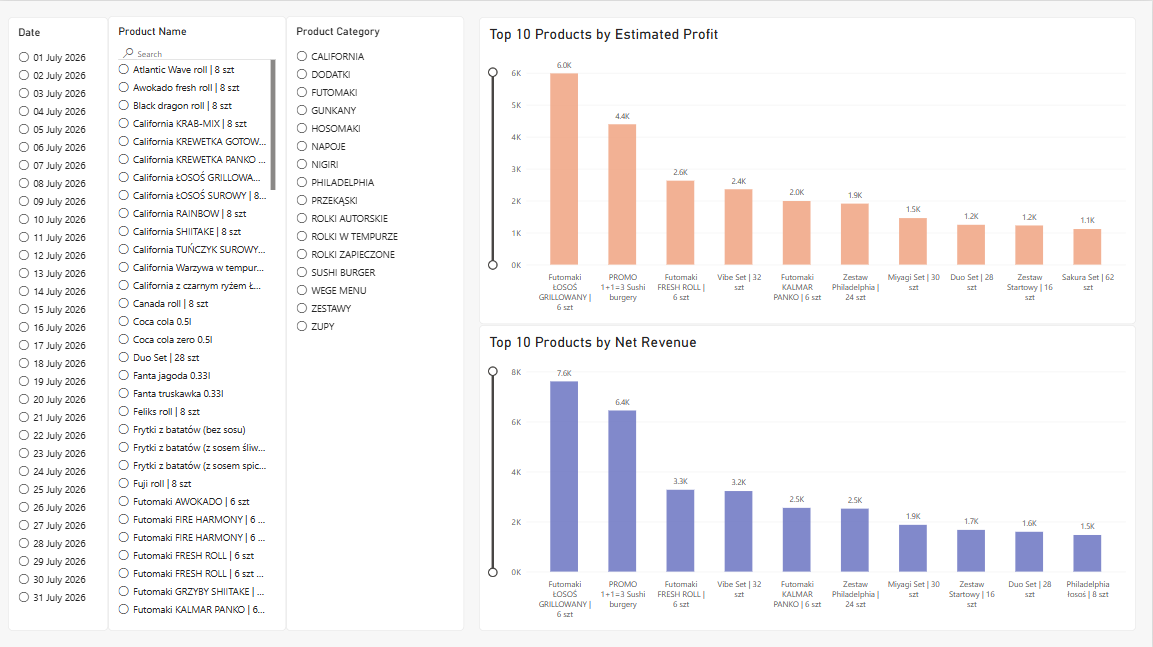

What the dashboard file says about the page in this screenshot:
{"tool":"powerbi","page":{"name":"Product Performance","canvas":[1920,1080],"ordinal":2},"visuals":[{"type":"columnChart","title":"Top 10 Products by Net Revenue","fields":{"Category":["sales_07_2026.product_name"],"Y":["Sum(sales_07_2026.total_revenue_net)"]},"box":[798.3,540,1095,510],"z":0},{"type":"columnChart","title":"Top 10 Products by Estimated Profit","fields":{"Category":["sales_07_2026.product_name"],"Y":["Sum(sales_07_2026.total_profit_est)"]},"box":[798.3,26.7,1095,511.7],"z":1},{"type":"listSlicer","fields":{"Values":["sales_07_2026.product_category"]},"box":[476.7,25,296.7,1025],"z":2},{"type":"listSlicer","fields":{"Values":["sales_07_2026.product_name"]},"box":[180,25,296.7,1025],"z":3},{"type":"listSlicer","fields":{"Values":["sales_07_2026.date"]},"box":[13.3,26.7,166.7,1023.3],"z":4}]}

Visuals, with their boxes in screenshot pixels (x1, y1, x2, y2), scaled from the page's 1920x1080 canvas onto the 1153x647 screenshot:
"Top 10 Products by Net Revenue" columnChart: 479, 324, 1137, 629
"Top 10 Products by Estimated Profit" columnChart: 479, 16, 1137, 323
listSlicer - sales_07_2026.product_category: 286, 15, 464, 629
listSlicer - sales_07_2026.product_name: 108, 15, 286, 629
listSlicer - sales_07_2026.date: 8, 16, 108, 629
